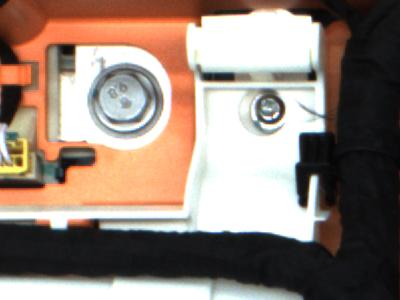nut_b: (81, 62, 167, 137)
screw_m: (243, 88, 294, 137)
